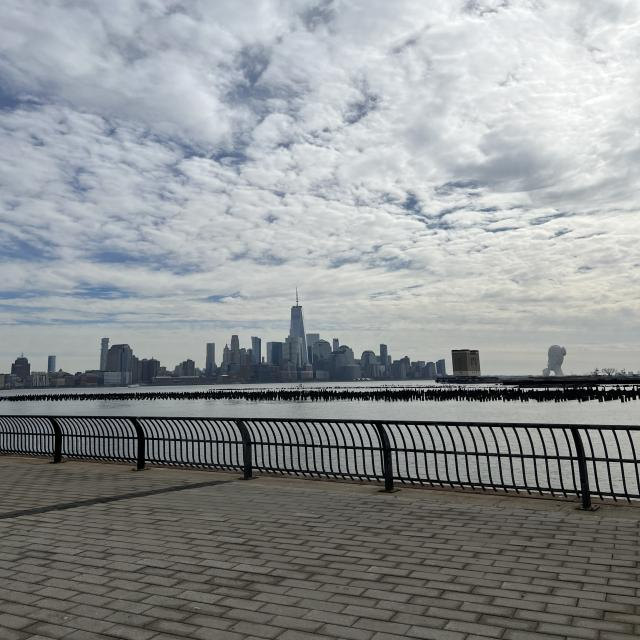WTC: (288, 286, 306, 338)
